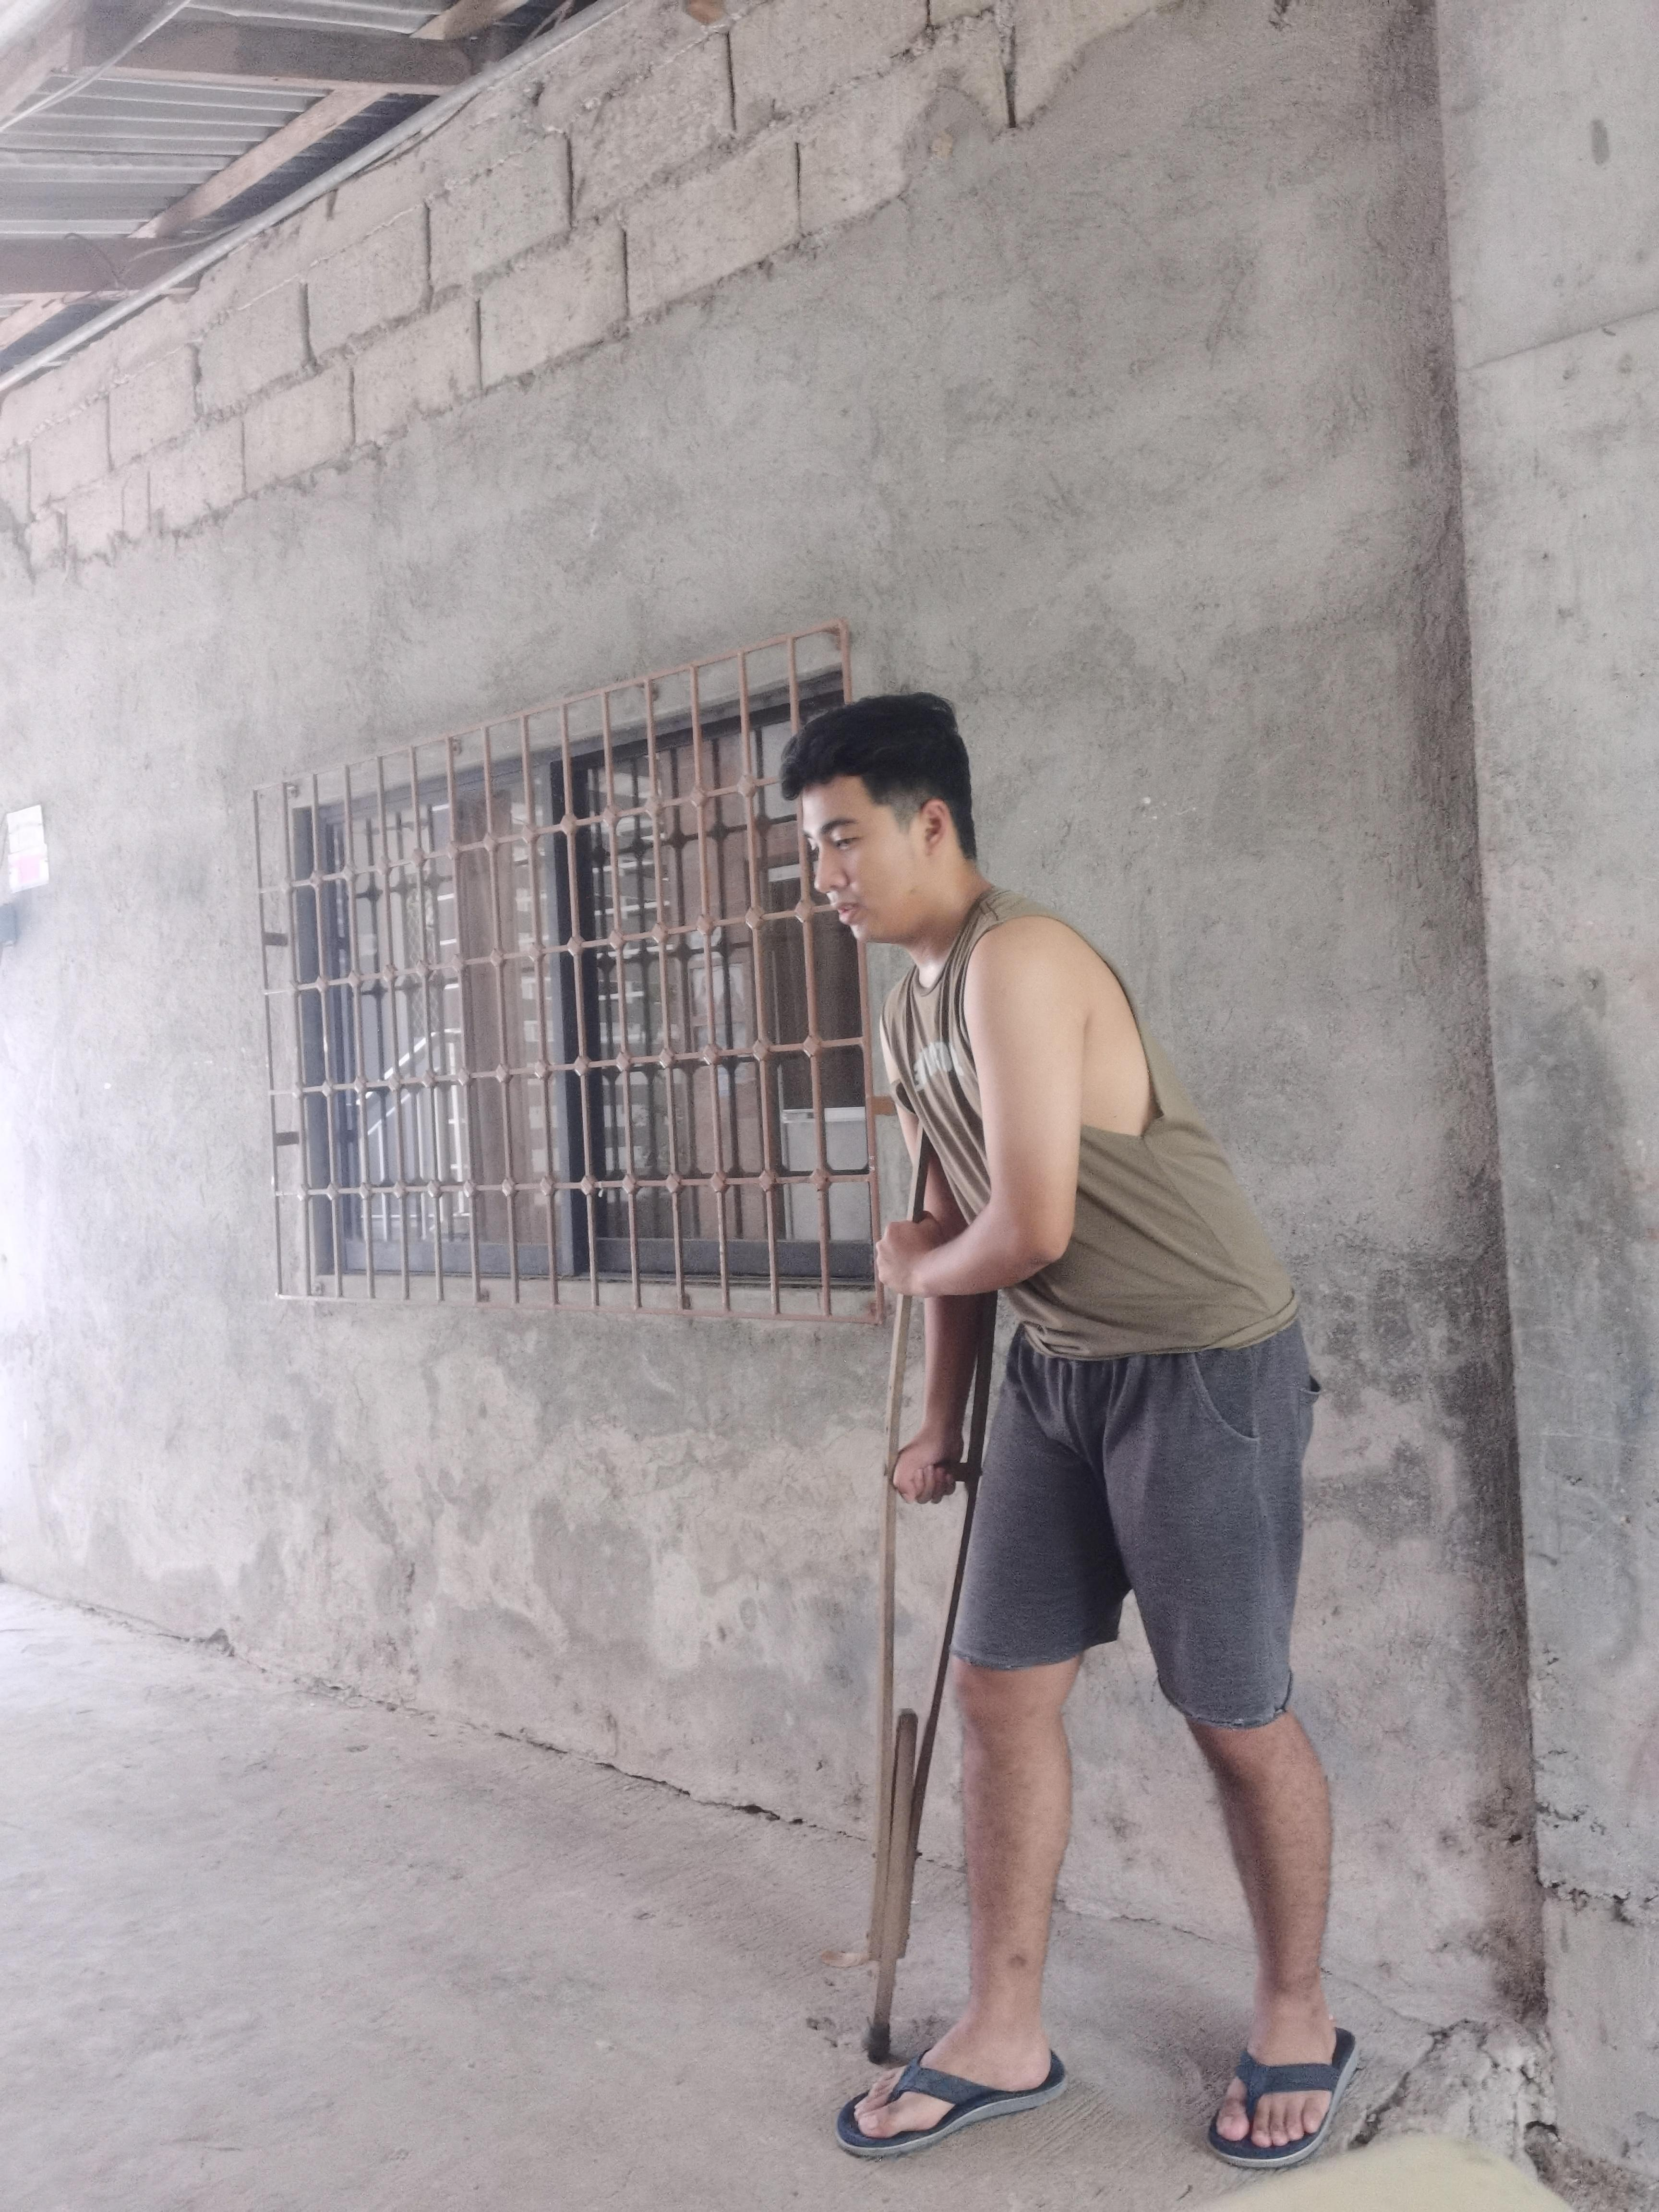crutches: (781, 693, 1356, 2170)
